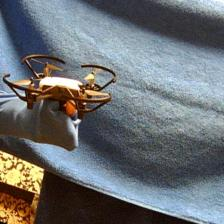drone: (3, 54, 117, 114)
